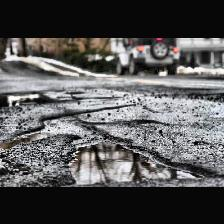pothole: (66, 134, 210, 184), (0, 112, 96, 150), (0, 90, 54, 106)
